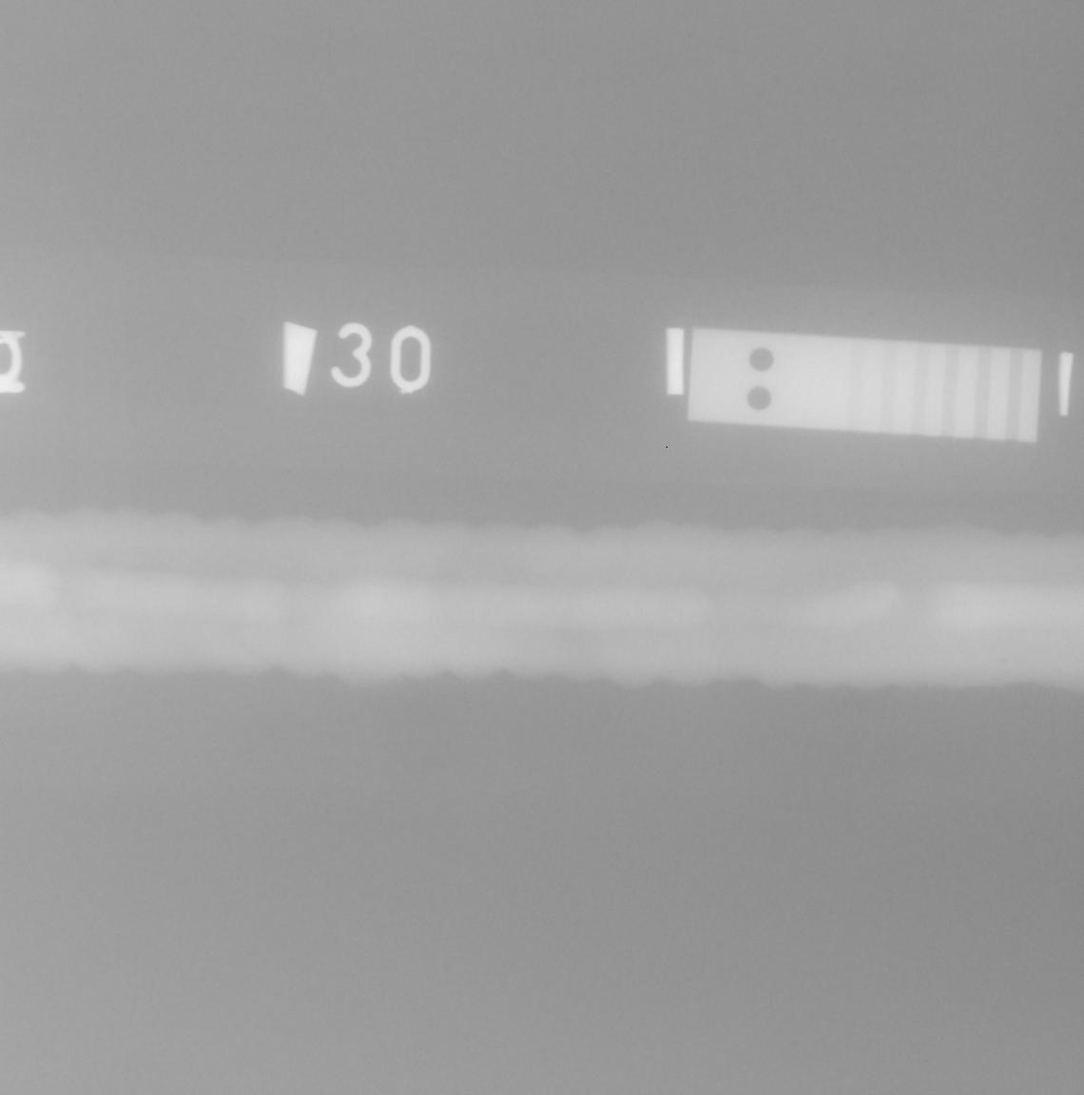Incomplete Root Penetration: (55, 588, 71, 592)
Pore/Porosity: (1001, 659, 1007, 665)
Reference Standard 2: (688, 328, 1042, 444)
